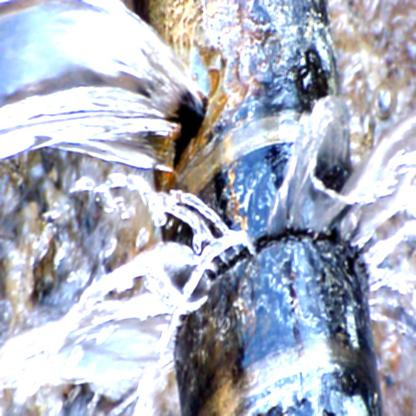burst: (177, 186, 374, 321), (132, 58, 219, 169)
